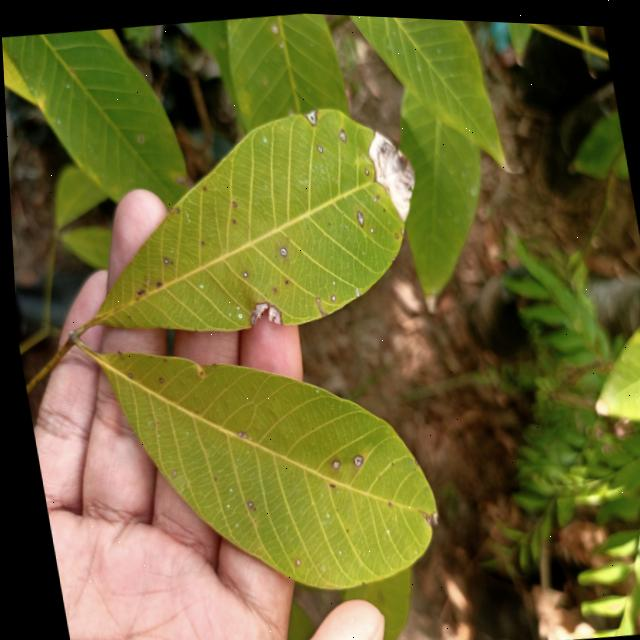Colletotrichum: (336, 126, 347, 141), (353, 208, 362, 225), (348, 451, 359, 464), (327, 456, 336, 467), (278, 243, 285, 255), (315, 141, 322, 151), (160, 256, 167, 263), (241, 499, 248, 506), (369, 193, 375, 199), (363, 165, 368, 172), (367, 224, 372, 230), (391, 229, 396, 235), (327, 292, 333, 297), (154, 376, 159, 381), (240, 270, 244, 274), (125, 372, 129, 376), (201, 185, 204, 188), (271, 286, 273, 290), (231, 217, 233, 221), (284, 277, 286, 280), (199, 240, 201, 242)
Leaf-Blight: (363, 122, 421, 223)
